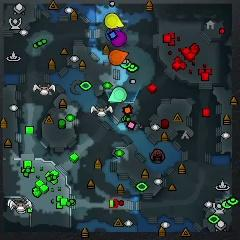p2: (108, 86, 128, 102)
p3: (106, 31, 126, 45)
p4: (104, 13, 123, 29)
p5: (108, 49, 129, 66)
